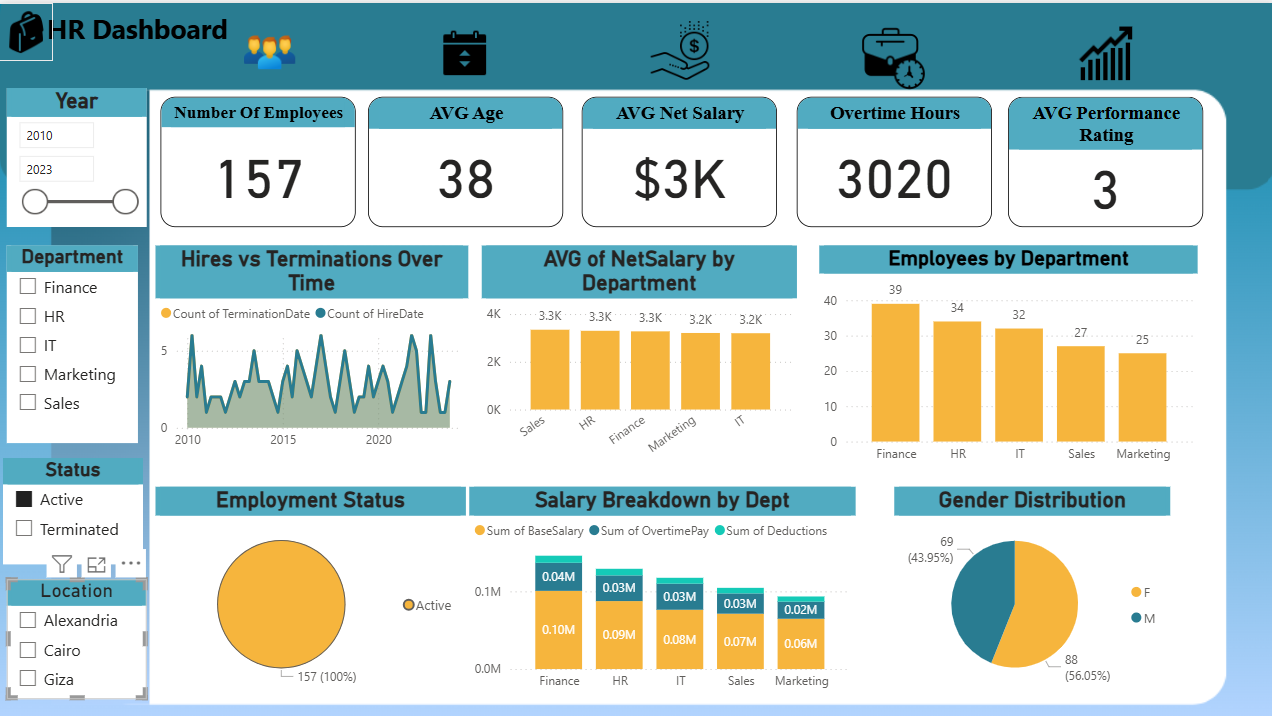

The page's visual inventory and layout, read from the dashboard file:
{"tool":"powerbi","page":{"name":"HR Dashboard","canvas":[1280,720],"ordinal":0},"visuals":[{"type":"card","title":"Number Of Employees","fields":{"Values":["Count(SalaryDetails.EmployeeID)"]},"box":[162.5,93.8,195,130],"z":0},{"type":"card","title":"AVG Age","fields":{"Values":["Avg(Employees.Age)"]},"box":[370,93.8,195,130],"z":1000},{"type":"card","title":"AVG Net Salary","fields":{"Values":["Avg(SalaryDetails.NetSalary)"]},"box":[583.8,93.8,195,130],"z":2000},{"type":"card","title":"Overtime Hours","fields":{"Values":["Sum(Employees.OvertimeHours)"]},"box":[798.8,93.8,195,130],"z":3000},{"type":"card","title":"AVG Performance Rating","fields":{"Values":["Avg(Employees.PerformanceRating)"]},"box":[1010,93.8,195,130],"z":4000},{"type":"image","box":[241.2,11.2,61.2,73.8],"z":5000},{"type":"image","box":[640,8.8,83.8,81.2],"z":6000},{"type":"image","box":[857.5,17.5,76.2,76.2],"z":7000},{"type":"image","box":[438.8,21.2,56.2,58.8],"z":8000},{"type":"image","box":[1075,18.8,65,63.8],"z":9000},{"type":"columnChart","title":"Employees by Department","fields":{"Category":["Employees.Department"],"Y":["Count(Employees.EmployeeID)"]},"box":[821.2,242.5,378.8,226.2],"z":10000},{"type":"pieChart","title":"Gender Distribution","fields":{"Category":["Employees.Gender"],"Y":["CountNonNull(Employees.EmployeeID)"]},"box":[896.2,483.8,276.2,211.2],"z":11000},{"type":"clusteredColumnChart","title":"AVG of NetSalary by Department","fields":{"Category":["Employees.Department"],"Y":["Avg(SalaryDetails.NetSalary)"]},"box":[483.8,242.5,315,226.2],"z":12000},{"type":"columnChart","title":"Salary Breakdown by Dept","fields":{"Category":["Employees.Department"],"Y":["Sum(SalaryDetails.BaseSalary)","Sum(SalaryDetails.OvertimePay)","Sum(SalaryDetails.Deductions)"]},"box":[471.2,483.8,386.2,212.5],"z":13000},{"type":"pieChart","title":"Employment Status","fields":{"Category":["Employees.EmploymentStatus"],"Y":["CountNonNull(Employees.EmployeeID)"]},"box":[157.5,483.8,310,211.2],"z":14000},{"type":"lineChart","title":"Hires vs Terminations Over Time","fields":{"Y":["CountNonNull(Employees.TerminationDate)","CountNonNull(Employees.HireDate)"],"Category":["Employees.HireDate.Variation.Date Hierarchy.Year","Employees.HireDate.Variation.Date Hierarchy.Quarter"]},"box":[157.5,242.5,312.5,212.5],"z":15000},{"type":"slicer","title":"Year","fields":{"Values":["Employees.HireDate.Variation.Date Hierarchy.Year"]},"box":[8.8,85,140,138.8],"z":16000},{"type":"slicer","title":"Department","fields":{"Values":["Employees.Department"]},"box":[8.8,242.5,131.2,197.5],"z":17000},{"type":"slicer","title":"Status","fields":{"Values":["Employees.EmploymentStatus"]},"box":[5,455,140,106.2],"z":18000},{"type":"slicer","title":"Location","fields":{"Values":["Employees.Location"]},"box":[8.8,576.2,140,120],"z":19000},{"type":"textbox","box":[43.8,2.5,228.8,47.5],"z":20000},{"type":"image","box":[0,0,55,58.8],"z":21000}]}

Visuals, with their boxes in screenshot pixels (x1, y1, x2, y2), scaled from the page's 1280x720 canvas onto the 1272x716 screenshot:
"Number Of Employees" card: (161, 93, 355, 223)
"AVG Age" card: (368, 93, 561, 223)
"AVG Net Salary" card: (580, 93, 774, 223)
"Overtime Hours" card: (794, 93, 988, 223)
"AVG Performance Rating" card: (1004, 93, 1197, 223)
image: (240, 11, 301, 85)
image: (636, 9, 719, 90)
image: (852, 17, 928, 93)
image: (436, 21, 492, 80)
image: (1068, 19, 1133, 82)
"Employees by Department" columnChart: (816, 241, 1192, 466)
"Gender Distribution" pieChart: (891, 481, 1165, 691)
"AVG of NetSalary by Department" clusteredColumnChart: (481, 241, 794, 466)
"Salary Breakdown by Dept" columnChart: (468, 481, 852, 692)
"Employment Status" pieChart: (157, 481, 465, 691)
"Hires vs Terminations Over Time" lineChart: (157, 241, 467, 452)
"Year" slicer: (9, 85, 148, 223)
"Department" slicer: (9, 241, 139, 438)
"Status" slicer: (5, 452, 144, 558)
"Location" slicer: (9, 573, 148, 692)
textbox: (44, 2, 271, 50)
image: (0, 0, 55, 58)
